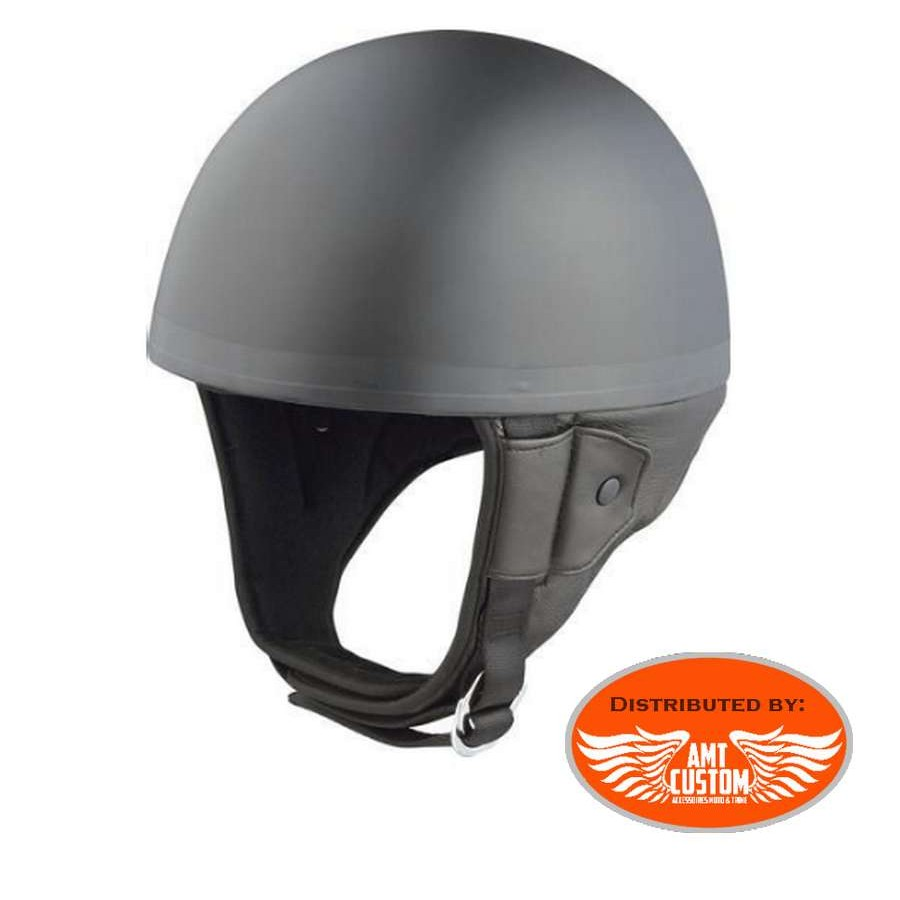with_helmet: (137, 20, 746, 636)
